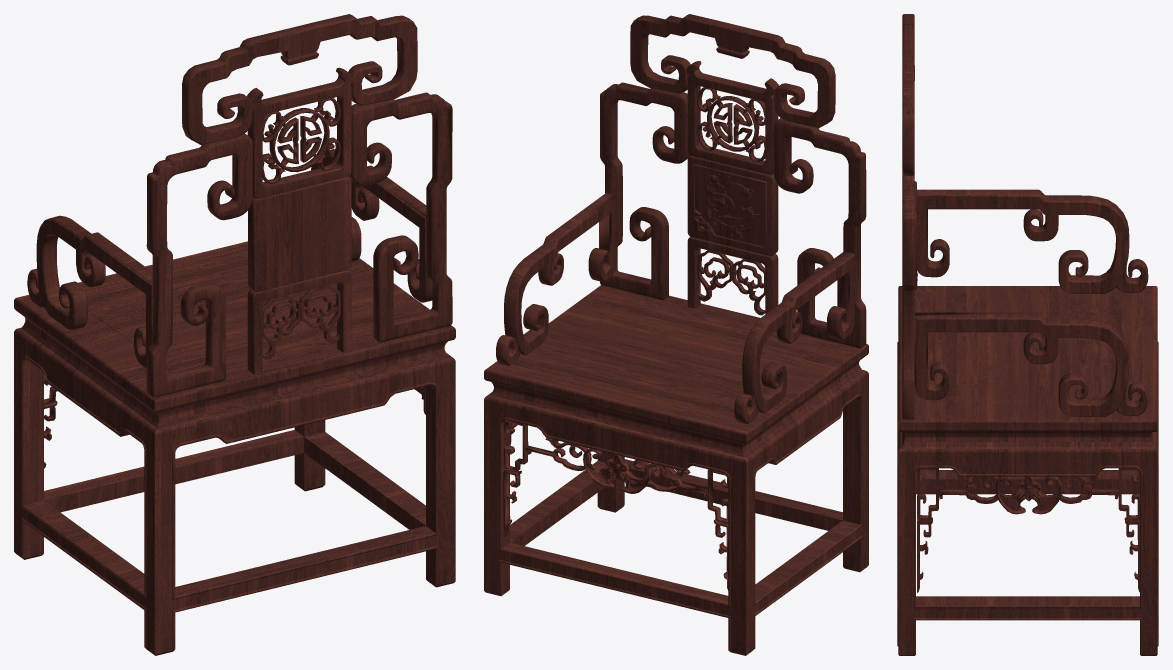
Rendered from QD-清客椅1.fbx.
The picture shows the model from 3 angles, left to right: view 1: azimuth 30°, elevation 25°; view 2: azimuth 150°, elevation 25°; view 3: azimuth 270°, elevation 25°; orthographic projection. The views are drawn at different scales.
Parts seen in each view (by area): view 1: QD-清客椅1; view 2: QD-清客椅1; view 3: QD-清客椅1.
Part boxes in pixels (bbox=[...]): QD-清客椅1: bbox=[14, 14, 455, 655]; QD-清客椅1: bbox=[484, 14, 868, 655]; QD-清客椅1: bbox=[897, 14, 1158, 655].
Size of the model in its own units: 0.5884 by 0.4762 by 1.09.
